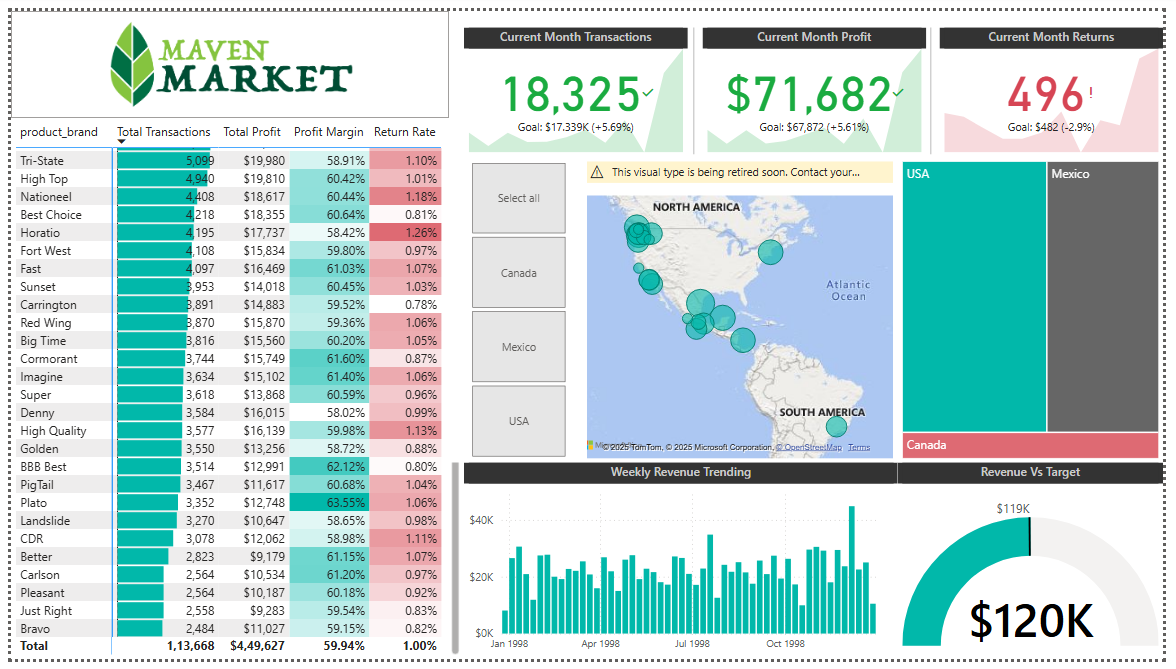

What the dashboard file says about the page in this screenshot:
{"tool":"powerbi","page":{"name":"Topline Performance","canvas":[1280,720],"ordinal":0},"visuals":[{"type":"image","box":[0,0,487.1,117.7],"z":0},{"type":"pivotTable","fields":{"Rows":["Products.product_brand"],"Values":["Transaction_Data.Total Transactions","Products.Total Profit","Products.Profit Margin","Returns_Data.Return Rate"]},"box":[0,117.7,503.2,601.6],"z":1000},{"type":"kpi","title":"Current Month Transactions","fields":{"Indicator":["Transaction_Data.Total Transactions"],"TrendLine":["Calendar.Start_of_Month"],"Goal":["Transaction_Data.Last Month Transactions"]},"box":[503.2,17.7,248.4,143.5],"z":2000},{"type":"kpi","title":"Current Month Profit","fields":{"TrendLine":["Calendar.Start_of_Month"],"Indicator":["Products.Total Profit"],"Goal":["Transaction_Data.Last Month Profit"]},"box":[767.7,17.7,248.4,143.5],"z":3000},{"type":"kpi","title":"Current Month Returns","fields":{"TrendLine":["Calendar.Start_of_Month"],"Indicator":["Returns_Data.Total Returns"],"Goal":["Transaction_Data.Last Month Return"]},"box":[1031.6,17.7,248.4,143.5],"z":4000},{"type":"map","fields":{"Category":["Stores.store_city"],"Size":["Transaction_Data.Total Transactions"]},"box":[627.4,161.3,358.1,340.3],"z":5000},{"type":"treemap","fields":{"Group":["Stores.store_country","Stores.store_state","Stores.store_city"],"Values":["Transaction_Data.Total Transactions"]},"box":[985.5,161.3,295.2,340.3],"z":6000},{"type":"columnChart","title":"Weekly Revenue Trending","fields":{"Y":["Products.Total Revenue"],"Category":["Calendar.week_start"]},"box":[503.2,501.6,482.3,217.7],"z":7000},{"type":"gauge","title":"Revenue Vs Target","fields":{"Y":["Products.Total Revenue"],"TargetValue":["Transaction_Data.Revenue Target"]},"box":[985,502.5,295,217.5],"z":8000},{"type":"slicer","fields":{"Values":["Stores.store_country"]},"box":[487.1,161.3,153.2,340.3],"z":9000},{"type":"basicShape","box":[989.1,8.7,67.4,160.9],"z":10000},{"type":"basicShape","box":[725,8.7,67.4,160.9],"z":11000}]}

Visuals, with their boxes in screenshot pixels (x1, y1, x2, y2), scaled from the page's 1280x720 canvas onto the 1176x669 screenshot:
image: {"left": 0, "top": 0, "right": 448, "bottom": 109}
pivotTable - Products.product_brand x Transaction_Data.Total Transactions: {"left": 0, "top": 109, "right": 462, "bottom": 668}
"Current Month Transactions" kpi: {"left": 462, "top": 16, "right": 691, "bottom": 150}
"Current Month Profit" kpi: {"left": 705, "top": 16, "right": 934, "bottom": 150}
"Current Month Returns" kpi: {"left": 948, "top": 16, "right": 1175, "bottom": 150}
map - Stores.store_city x Transaction_Data.Total Transactions: {"left": 576, "top": 150, "right": 905, "bottom": 466}
treemap - Stores.store_country x Stores.store_state: {"left": 905, "top": 150, "right": 1175, "bottom": 466}
"Weekly Revenue Trending" columnChart: {"left": 462, "top": 466, "right": 905, "bottom": 668}
"Revenue Vs Target" gauge: {"left": 905, "top": 467, "right": 1175, "bottom": 668}
slicer - Stores.store_country: {"left": 448, "top": 150, "right": 588, "bottom": 466}
basicShape: {"left": 909, "top": 8, "right": 971, "bottom": 158}
basicShape: {"left": 666, "top": 8, "right": 728, "bottom": 158}
